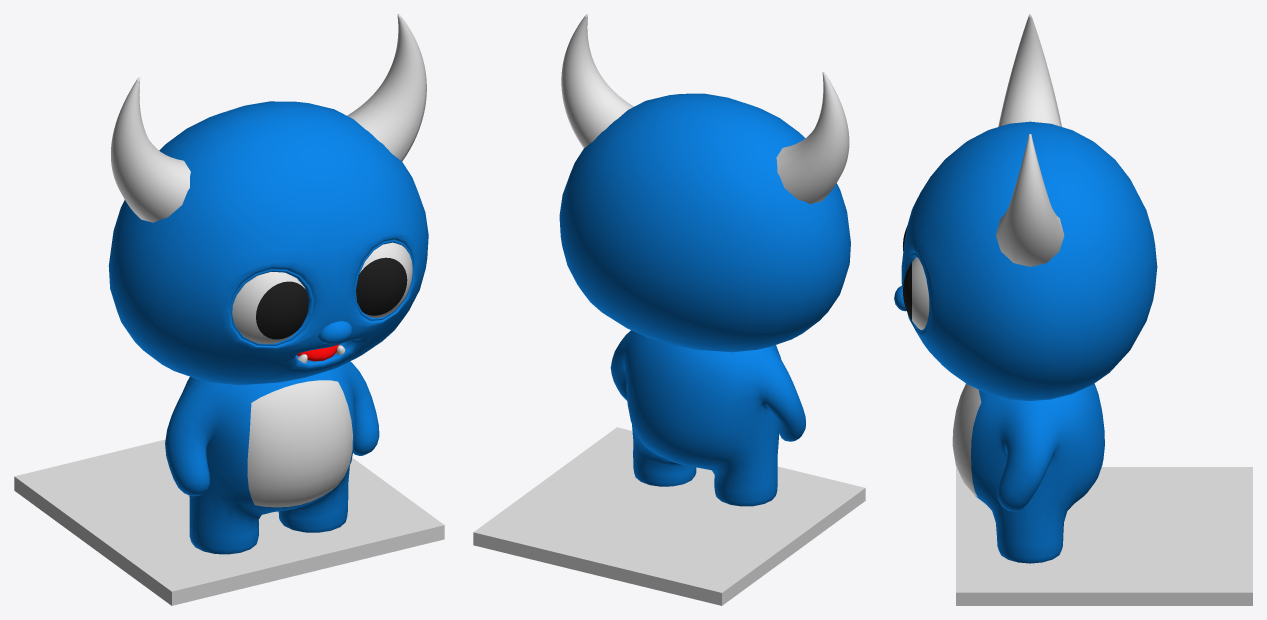
Rendered from target_model_a.glb.
The picture shows the model from 3 angles, left to right: view 1: azimuth 30°, elevation 25°; view 2: azimuth 150°, elevation 25°; view 3: azimuth 270°, elevation 25°; orthographic projection. The views are drawn at different scales.
Parts seen in each view (by area): view 1: Roundcube.001; view 2: Roundcube.001; view 3: Roundcube.001.
Part boxes in pixels (<box>): Roundcube.001: <box>14,14,444,605</box>; Roundcube.001: <box>473,14,865,605</box>; Roundcube.001: <box>894,14,1252,605</box>.
Size of the model in its own units: 2.27 by 3.49 by 2.42.
